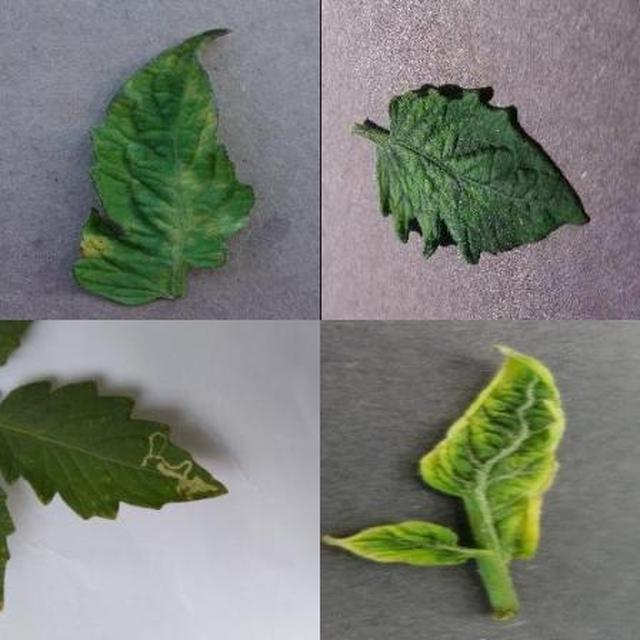Leaf Mold: (166, 78, 640, 640)
